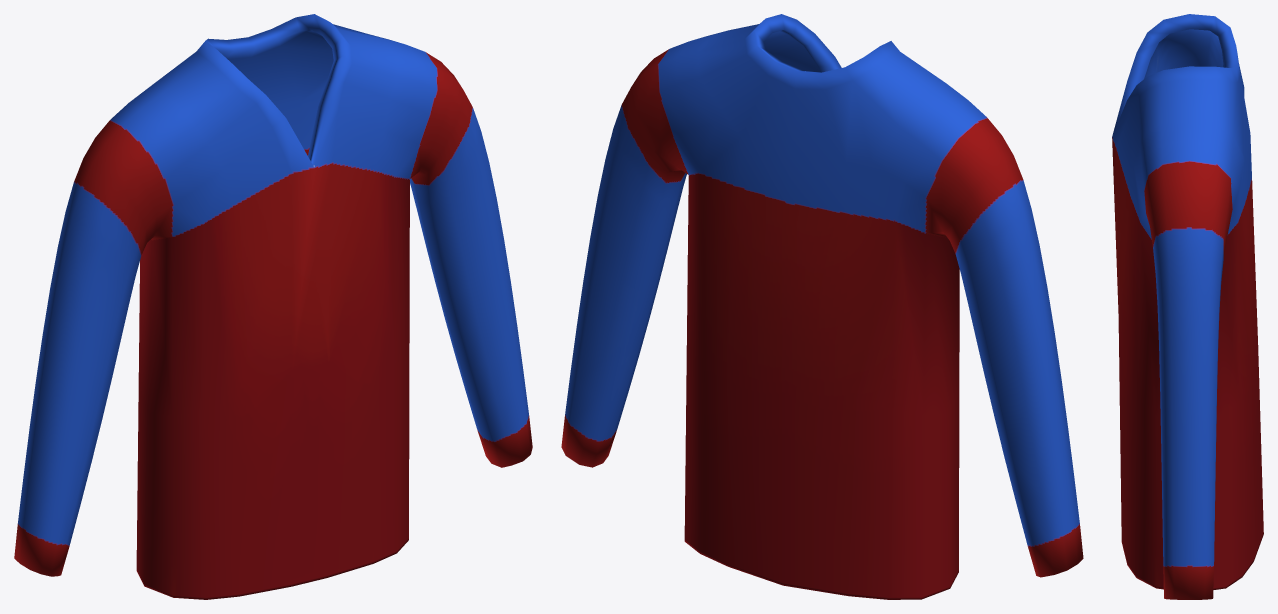
The model's file is Ayollar ko'ylagi.fbx.
The picture shows the model from 3 angles, left to right: view 1: azimuth 30°, elevation 25°; view 2: azimuth 150°, elevation 25°; view 3: azimuth 270°, elevation 25°; orthographic projection. The views are drawn at different scales.
Parts seen in each view (by area): view 1: Plane; view 2: Plane; view 3: Plane.
Part boxes in pixels (<box>): Plane: <box>14,14,532,599</box>; Plane: <box>561,14,1083,599</box>; Plane: <box>1112,14,1263,599</box>.
Size of the model in its own units: 456 by 448 by 125.
1 material, 1 textured.
